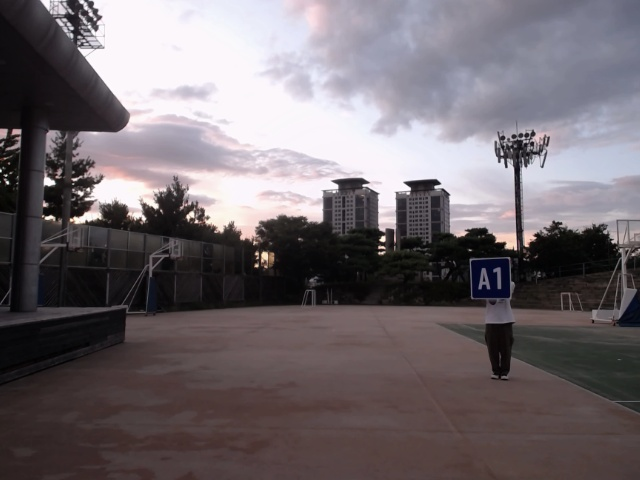delivery_a1: (470, 258, 511, 298)
